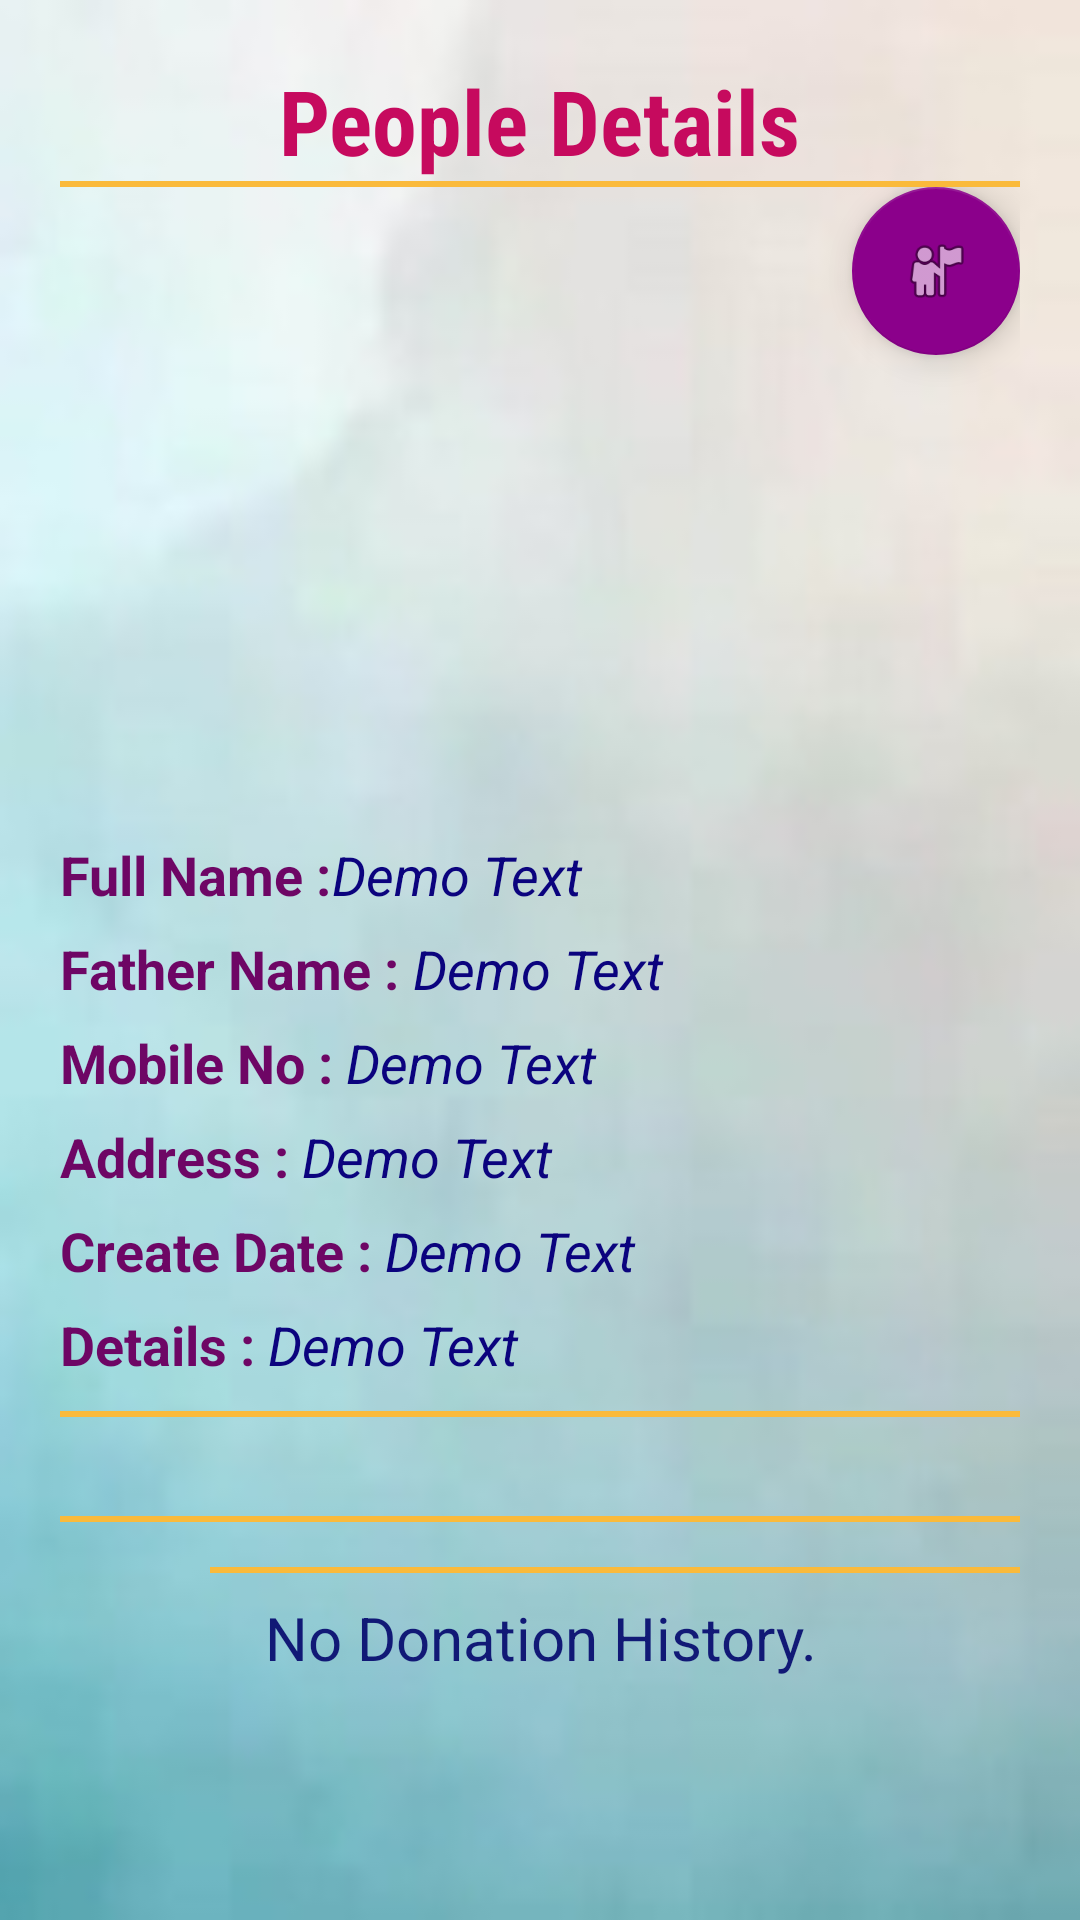

Named icons in this screenshot (1080w x 1920h) and their bounding boxes, (x1, y1, x2, y2):
myplaces: (852, 187, 1020, 355)
